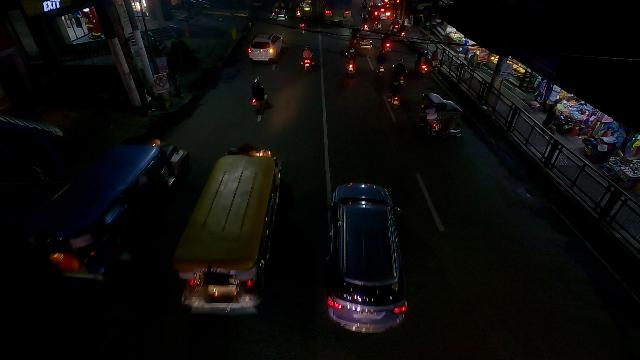car: (327, 183, 407, 333), (248, 33, 282, 62)
jeepney: (26, 140, 189, 280), (173, 147, 283, 314)
motorcycle: (251, 77, 266, 114), (415, 49, 433, 77), (391, 60, 407, 87), (389, 80, 402, 108), (346, 46, 357, 76), (301, 45, 314, 70), (377, 49, 386, 75), (398, 19, 407, 42), (381, 38, 393, 54), (389, 16, 399, 35), (300, 14, 307, 34)
